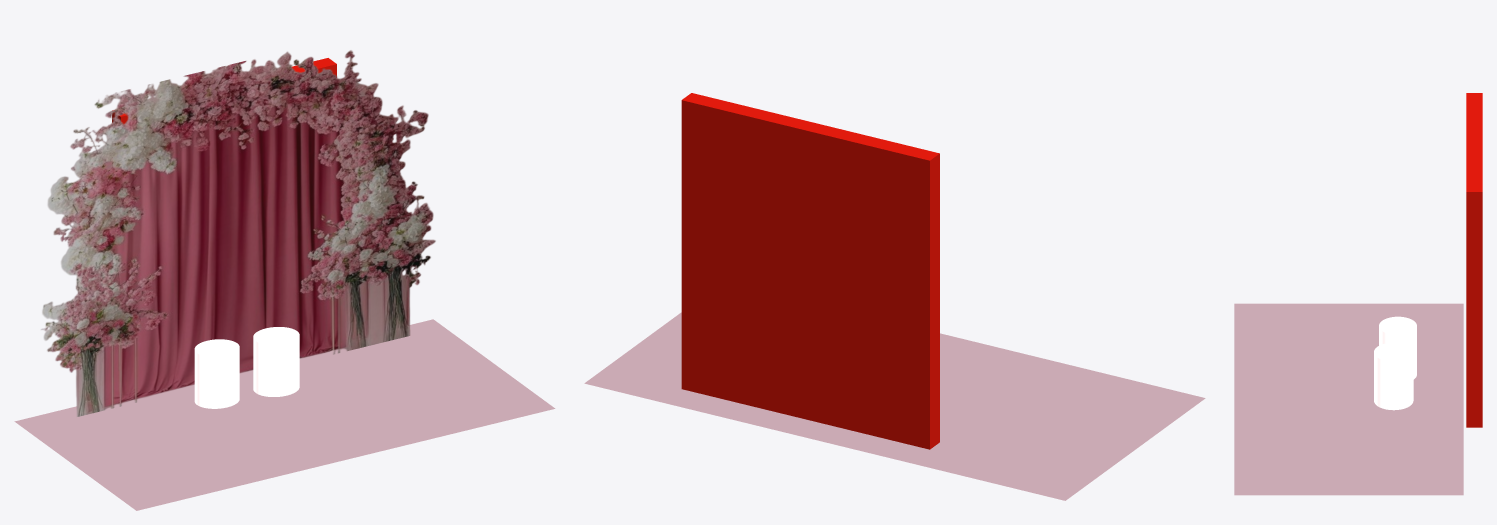
File: pink-engagement-decoration.glb
3 renders of one model, left to right at view 1: azimuth 30°, elevation 25°; view 2: azimuth 150°, elevation 25°; view 3: azimuth 270°, elevation 25°, orthographic. The views are drawn at different scales.
Visible parts, largest first — view 1: Plane (×2), Cylinder (×2); view 2: Box, Plane; view 3: Plane, Box, Cylinder (×2).
Part boxes in pixels (x1,y1,x2,y2): Plane (×2): [14, 50, 555, 510]; Cylinder (×2): [194, 327, 299, 408]; Box: [681, 93, 939, 449]; Plane: [584, 312, 1205, 500]; Plane: [1234, 303, 1463, 495]; Box: [1466, 93, 1482, 427]; Cylinder (×2): [1374, 316, 1416, 410].
Bounding box in the file's own units: 8.46 × 6.47 × 4.63.
5 materials, 1 textured.
